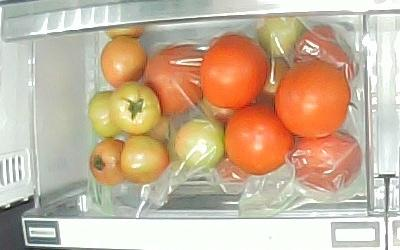tomato: (276, 62, 353, 136), (224, 108, 295, 175), (201, 34, 264, 109), (109, 82, 161, 135), (100, 36, 148, 88), (121, 136, 170, 184), (89, 139, 125, 186), (88, 91, 123, 137)
tomato_vinyl: (141, 45, 209, 114), (290, 130, 362, 193), (291, 26, 358, 80), (169, 119, 223, 171), (255, 16, 303, 56)
